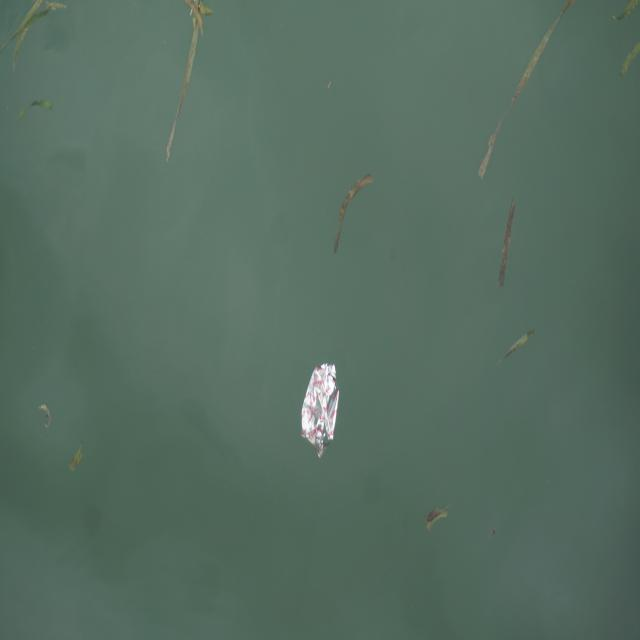Bungkus Makanan: (298, 360, 345, 460)
